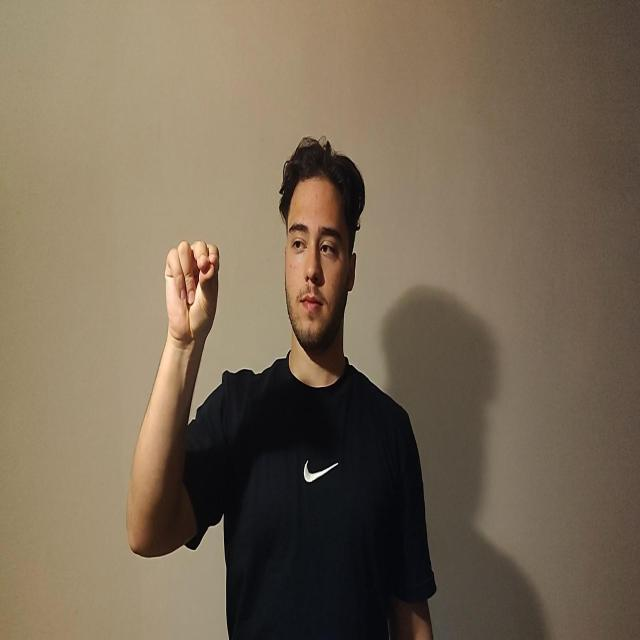no: (164, 239, 220, 345)
